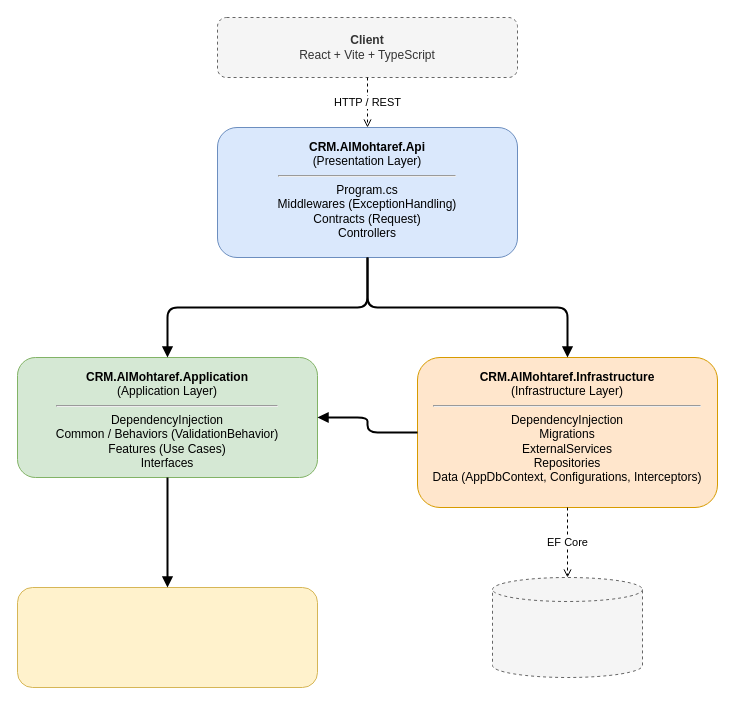
This 735x705 diagram has some shape labels left out. The box of each missing label's shape, as (x1, y1, x2, y2) in pixels:
CRM.AlMohtaref.Domain (Domain Layer) Entities: (16, 586, 318, 688)
Database & External Services: (492, 576, 642, 678)
